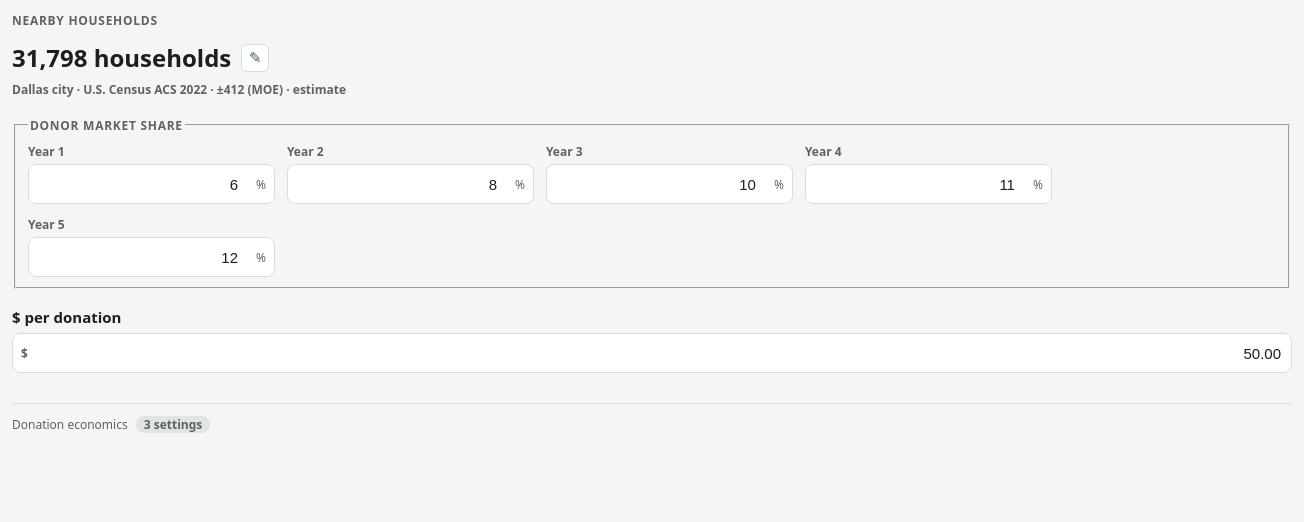
Scenario: StepConfigureDonations — W15 › pencil reveals the household input
Click the button named "edit households".
click(255, 58)  # box x1=241 y1=44 x2=269 y2=72
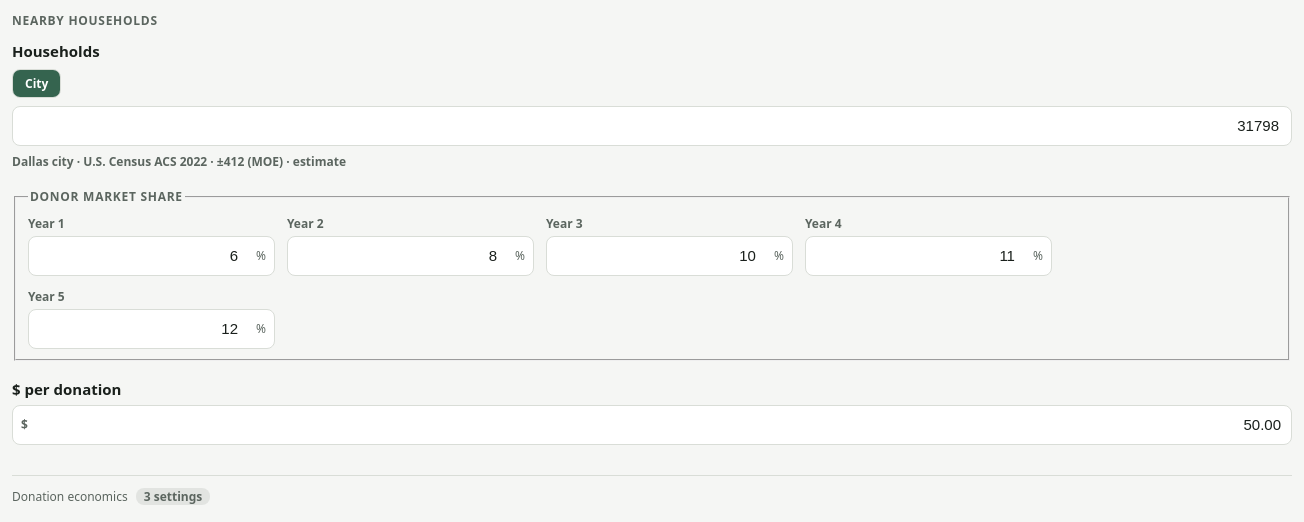
Expected: the field labelled "Households" is shown, x1=12 y1=106 x2=1292 y2=146
